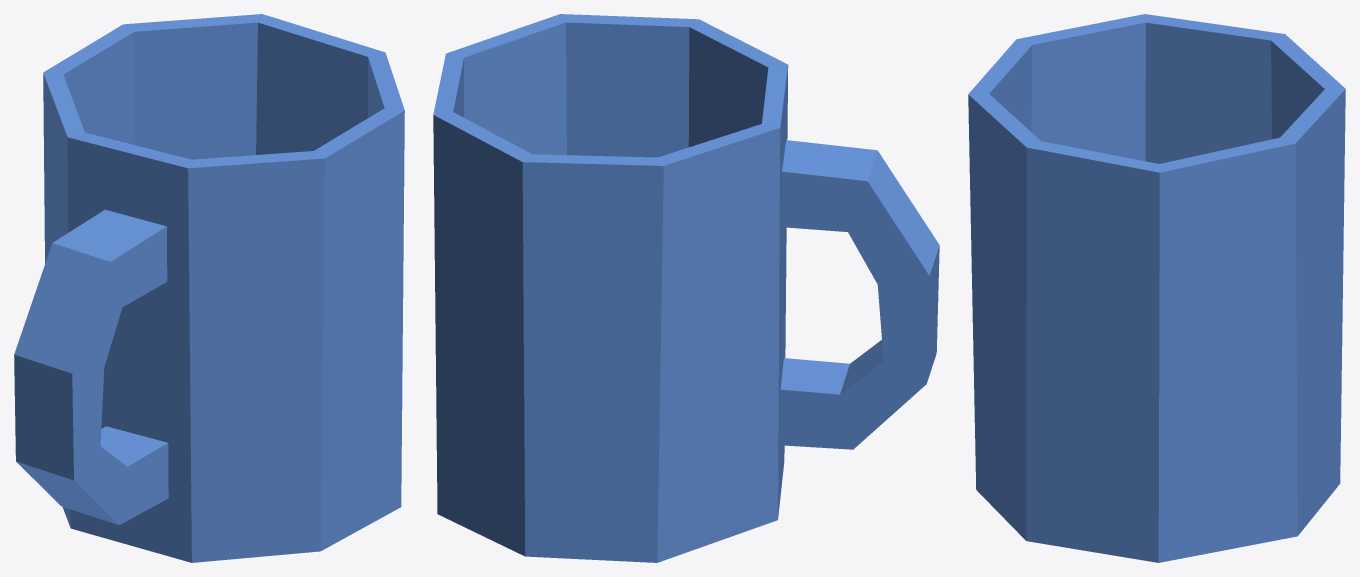
Rendered from Office_Cup.fbx.
3 renders of one model, left to right at view 1: azimuth 30°, elevation 25°; view 2: azimuth 150°, elevation 25°; view 3: azimuth 270°, elevation 25°, orthographic.
Parts seen in each view (by area): view 1: Office_Cup; view 2: Office_Cup; view 3: Office_Cup.
Part boxes in pixels (<box>): Office_Cup: <box>14,14,404,562</box>; Office_Cup: <box>433,14,939,562</box>; Office_Cup: <box>968,14,1345,562</box>.
Size of the model in its own units: 23.85 by 18.29 by 21.52.
